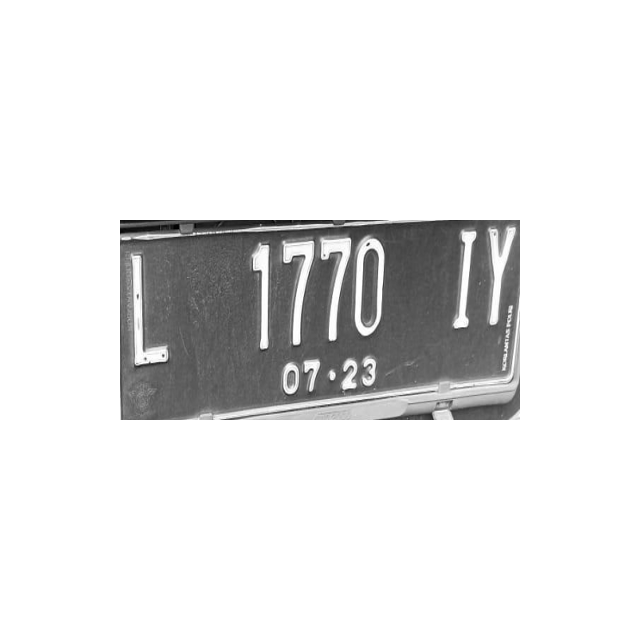contain: (128, 242, 176, 374), (229, 236, 274, 359), (274, 232, 319, 355), (316, 229, 355, 356), (349, 224, 390, 344), (482, 222, 519, 339), (444, 224, 480, 341)
